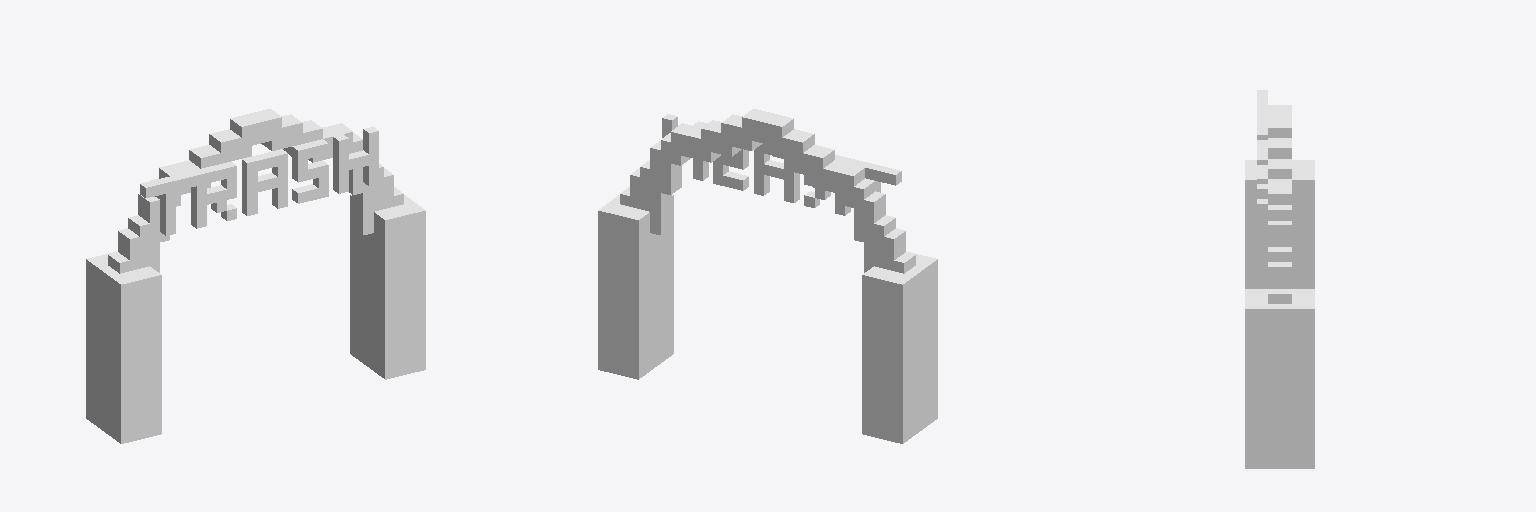
File: sign_trash.obj
3 renders of one model, left to right at view 1: azimuth 30°, elevation 25°; view 2: azimuth 150°, elevation 25°; view 3: azimuth 270°, elevation 25°, orthographic.
Parts seen in each view (by area): view 1: object 1; view 2: object 1; view 3: object 1.
Boxes of the visible parts, x1,y1,x2,y2 form: object 1: [86, 109, 425, 443]; object 1: [598, 109, 937, 443]; object 1: [1245, 90, 1314, 468].
Bounding box in the file's own units: 3 × 2.6 × 0.6.